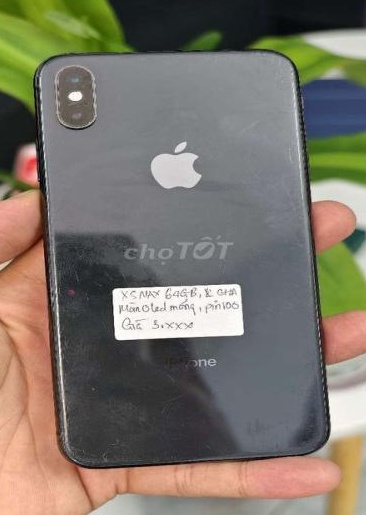scratch: (34, 50, 337, 462)
